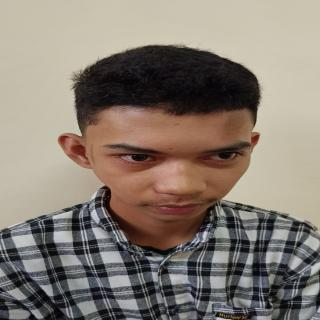Marah: (68, 93, 262, 226)
